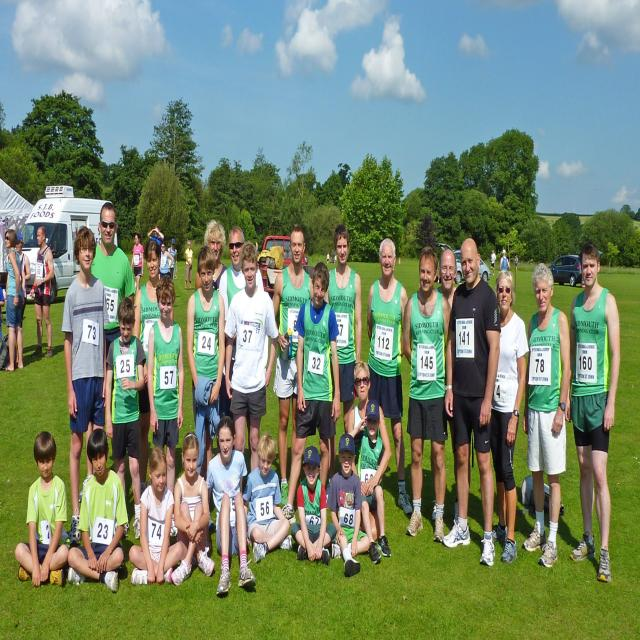body: (561, 235, 621, 586), (442, 232, 502, 568), (274, 260, 342, 531), (78, 202, 136, 504), (61, 223, 112, 546), (521, 258, 572, 572), (400, 243, 451, 547), (223, 241, 280, 496), (483, 267, 530, 567), (367, 237, 414, 517), (271, 225, 315, 508), (185, 242, 226, 540), (218, 224, 267, 460), (130, 238, 174, 500), (102, 294, 148, 544), (202, 413, 258, 598), (67, 425, 129, 592), (324, 222, 362, 490), (147, 273, 185, 539), (13, 425, 72, 591), (430, 248, 461, 525), (128, 442, 185, 590), (346, 360, 392, 543), (168, 428, 217, 588), (348, 397, 392, 565), (327, 430, 371, 577), (242, 432, 290, 564), (288, 444, 338, 566), (2, 228, 27, 374), (29, 225, 55, 359), (194, 218, 229, 294), (15, 232, 32, 364), (148, 225, 164, 281), (131, 232, 144, 294), (159, 240, 175, 280), (184, 239, 194, 292), (168, 238, 178, 281), (0, 276, 5, 361), (499, 249, 510, 272), (490, 248, 497, 276), (514, 254, 519, 272), (331, 248, 335, 265), (326, 251, 330, 265), (255, 238, 258, 256), (438, 270, 440, 285)
